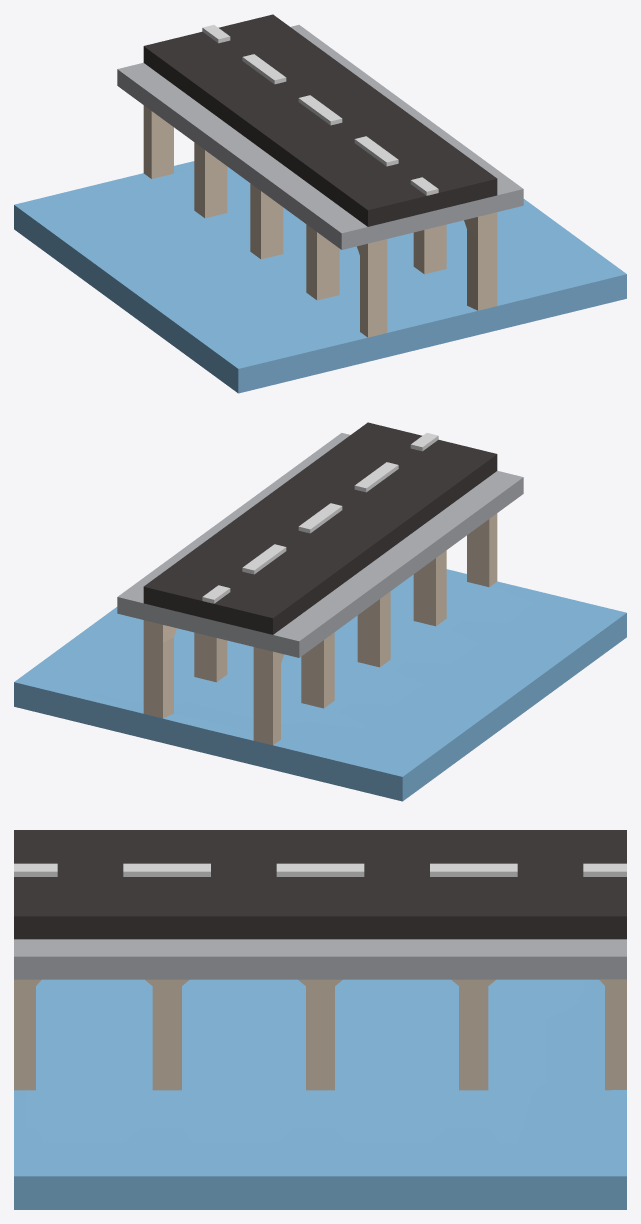
The model's file is Street_Bridge_Water.glb.
The picture shows the model from 3 angles, top to bottom: view 1: azimuth 30°, elevation 25°; view 2: azimuth 150°, elevation 25°; view 3: azimuth 270°, elevation 25°; orthographic projection. The views are drawn at different scales.
Parts seen in each view (by area): view 1: Street_Bridge_Water; view 2: Street_Bridge_Water; view 3: Street_Bridge_Water.
Boxes of the visible parts, left/top/right/bottom form: Street_Bridge_Water: left=14, top=14, right=626, bottom=393; Street_Bridge_Water: left=14, top=422, right=626, bottom=801; Street_Bridge_Water: left=14, top=830, right=626, bottom=1209.
Bounding box in the file's own units: 2 × 0.7659 × 2.
